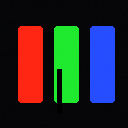4 line_v: (57, 69, 61, 113)
